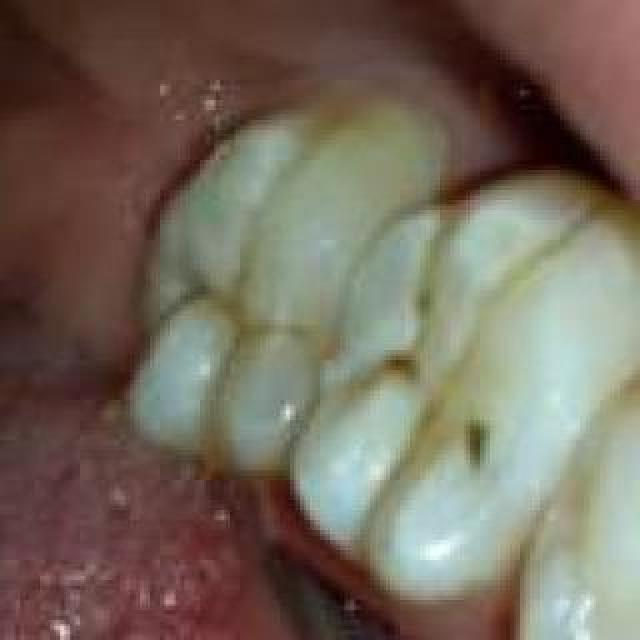cavities: (124, 255, 240, 381), (450, 409, 500, 475), (370, 325, 420, 391)
